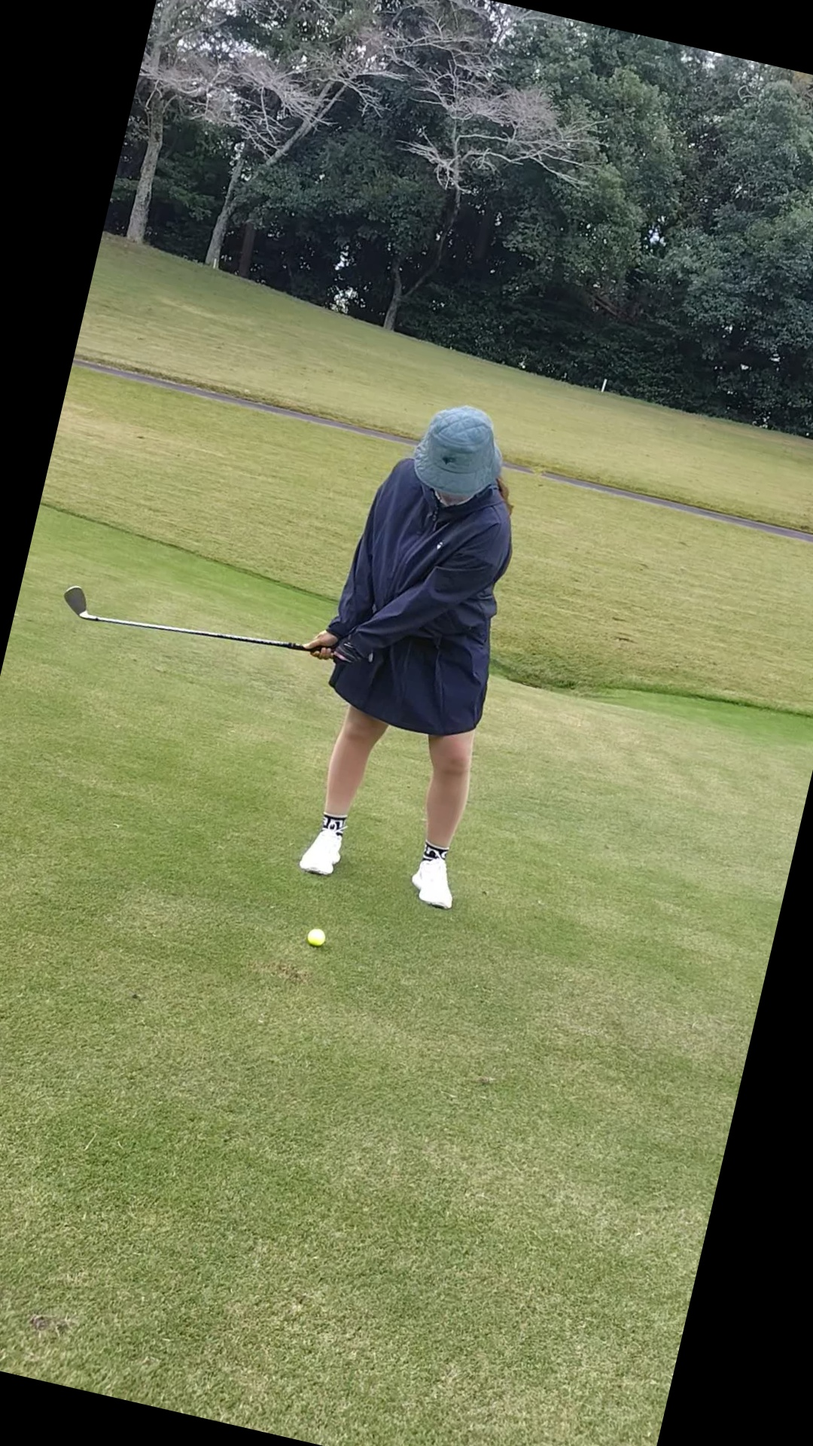clubhead: (14, 517, 146, 687)
